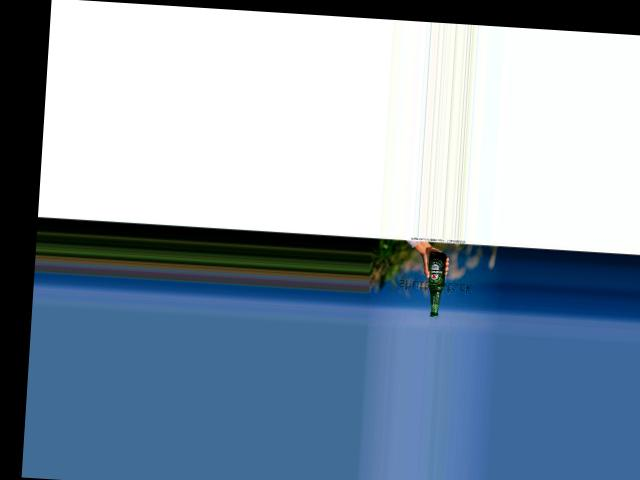beer: (426, 251, 446, 317)
